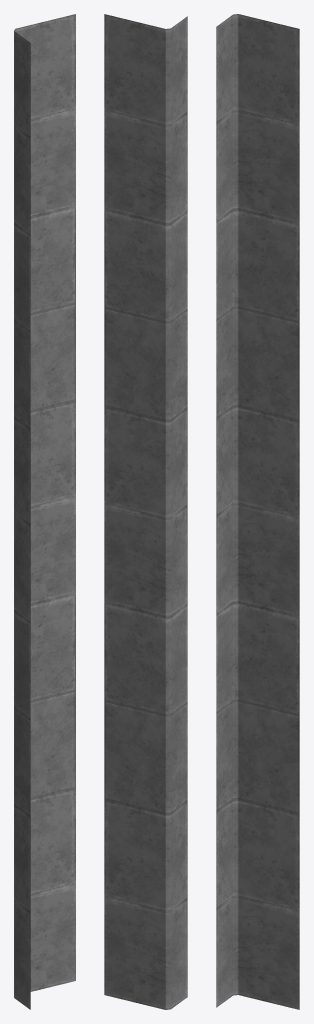
File: SM_Wall_34.fbx
3 views of the same model, side by side, from view 1: azimuth 30°, elevation 25°; view 2: azimuth 150°, elevation 25°; view 3: azimuth 330°, elevation 25° (orthographic).
Visible parts, largest first — view 1: SM_Wall_45; view 2: SM_Wall_45; view 3: SM_Wall_45.
Part boxes in pixels (bbox=[...]): SM_Wall_45: bbox=[14, 14, 75, 1009]; SM_Wall_45: bbox=[104, 14, 187, 1009]; SM_Wall_45: bbox=[216, 14, 299, 1009].
Bounding box in the file's own units: 100 × 1450 × 50.
